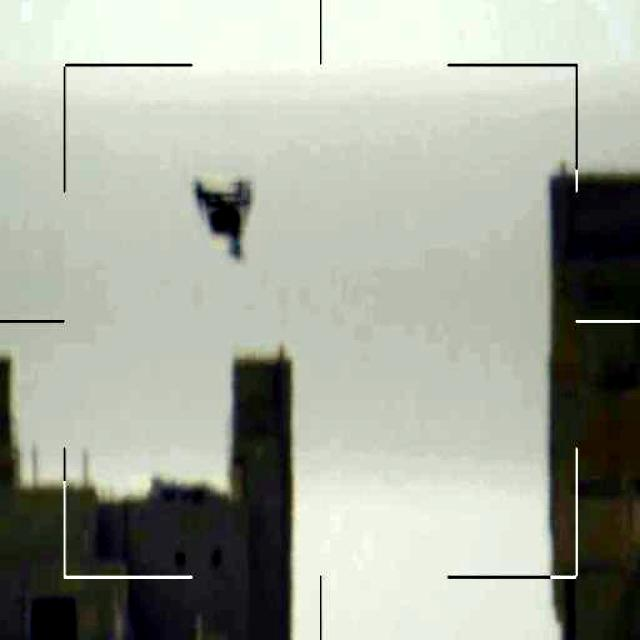bird: (184, 178, 260, 264)
